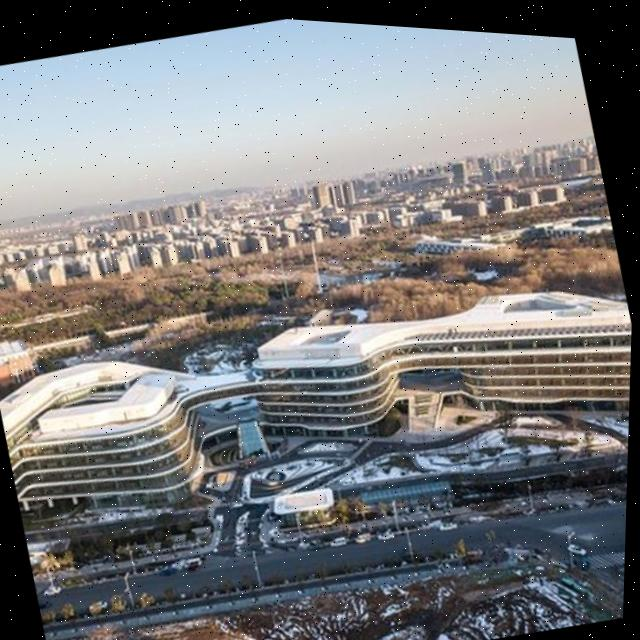building: (0, 228, 633, 570), (0, 133, 574, 340), (410, 189, 617, 293), (107, 191, 208, 244), (308, 176, 359, 213)
